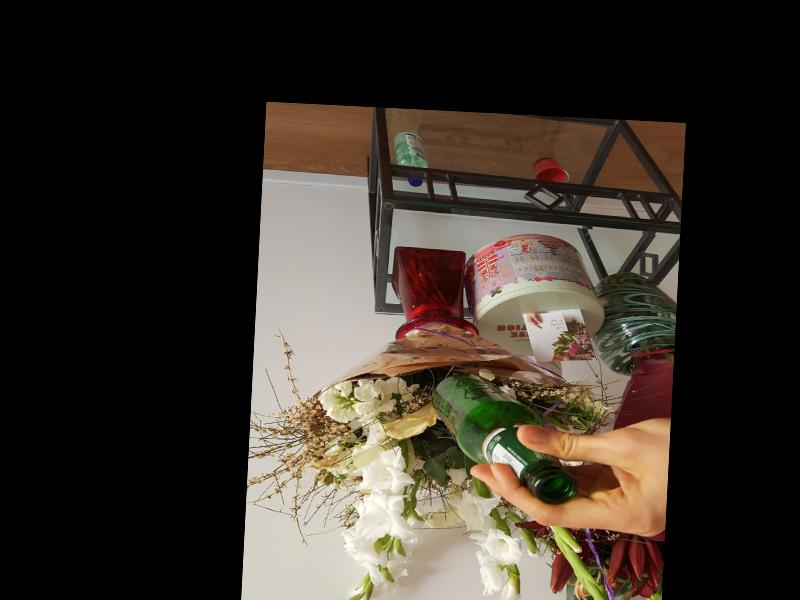Beer: (427, 373, 580, 505)
